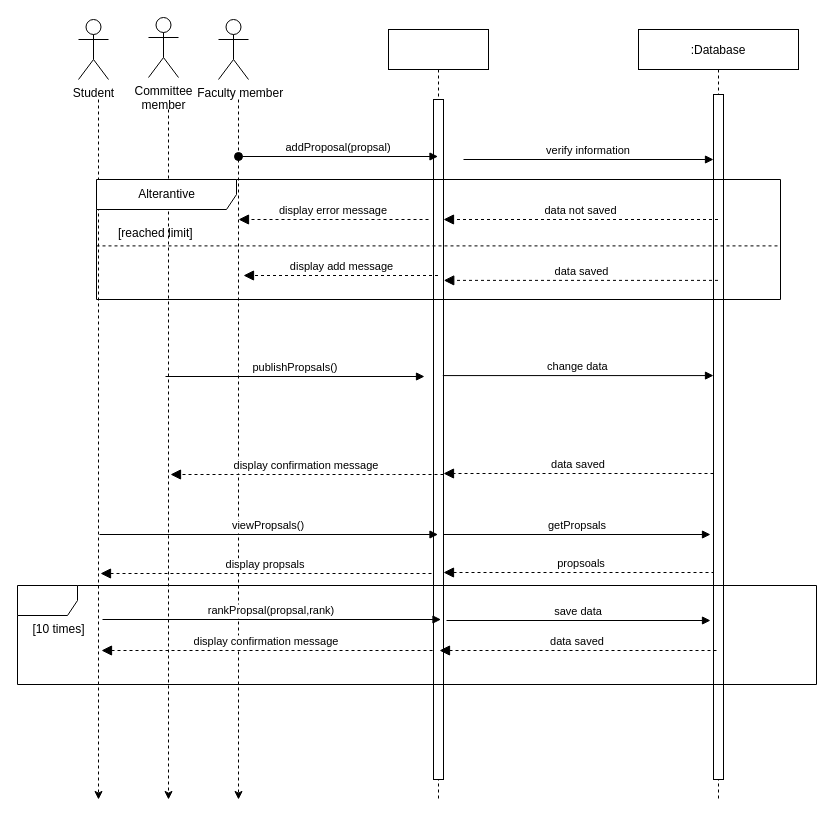
Image size: 834x825. Some labels were removed from this diagram. Each missing label, with the box of its shape:
:System: (388, 28, 488, 800)
Loop: (16, 584, 816, 684)
